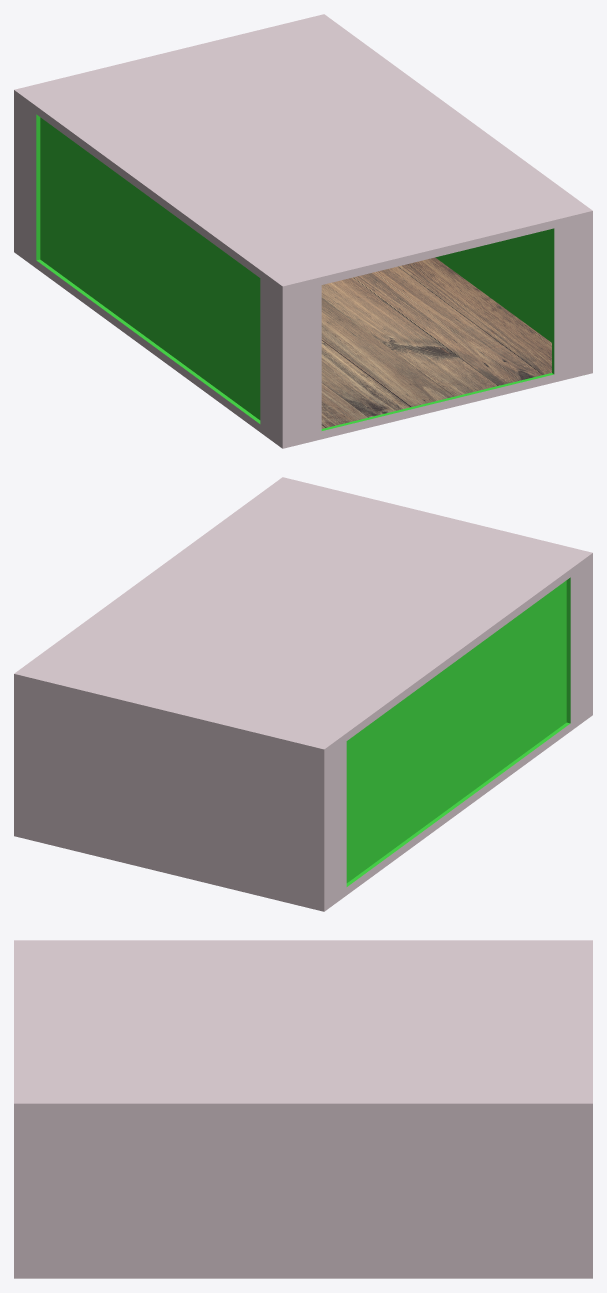
Rendered from Room_Missing_roof+wall_tex.fbx.
3 views of the same model, one above another, from view 1: azimuth 30°, elevation 25°; view 2: azimuth 150°, elevation 25°; view 3: azimuth 270°, elevation 25° (orthographic). The views are drawn at different scales.
Visible parts, largest first — view 1: Room walls; view 2: Room walls; view 3: Room walls.
Part boxes in pixels (x1,y1,x2,y2): Room walls: (14, 14, 592, 448); Room walls: (14, 477, 592, 911); Room walls: (14, 940, 592, 1278).
Size of the model in its own units: 4000 by 2000 by 6000.
